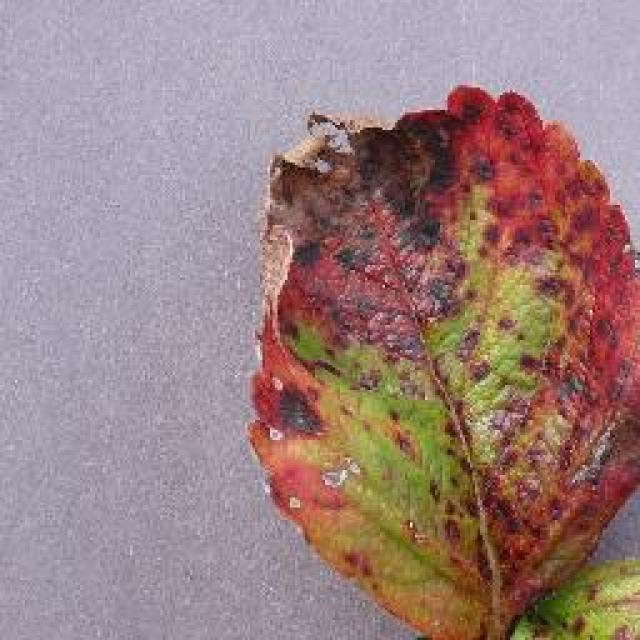Strawberry leaf scorch: (302, 164, 605, 528)
